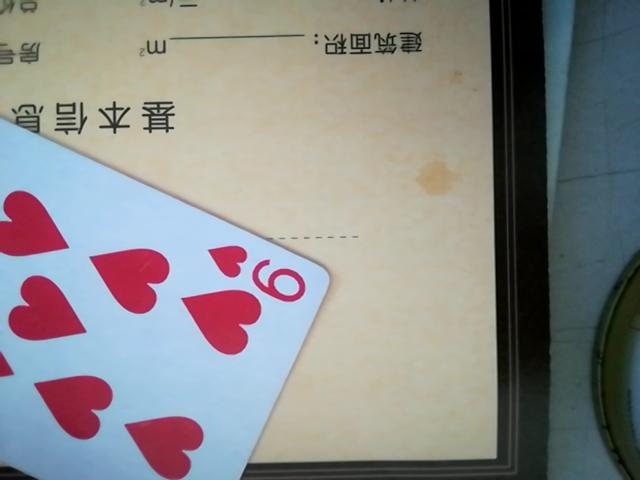hx 9: (0, 84, 343, 480)
